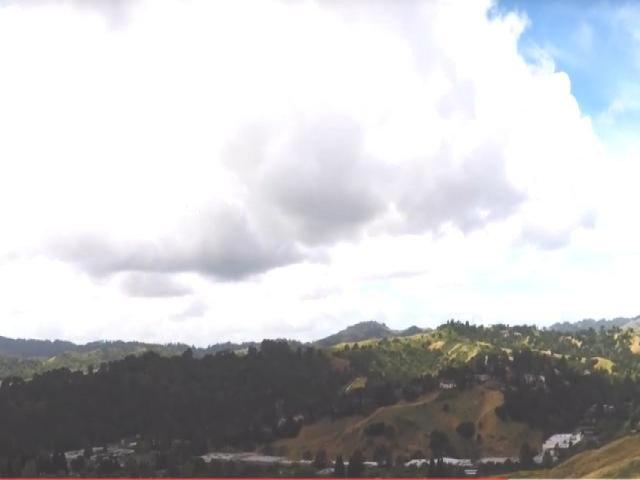iha: (185, 201, 199, 217)
